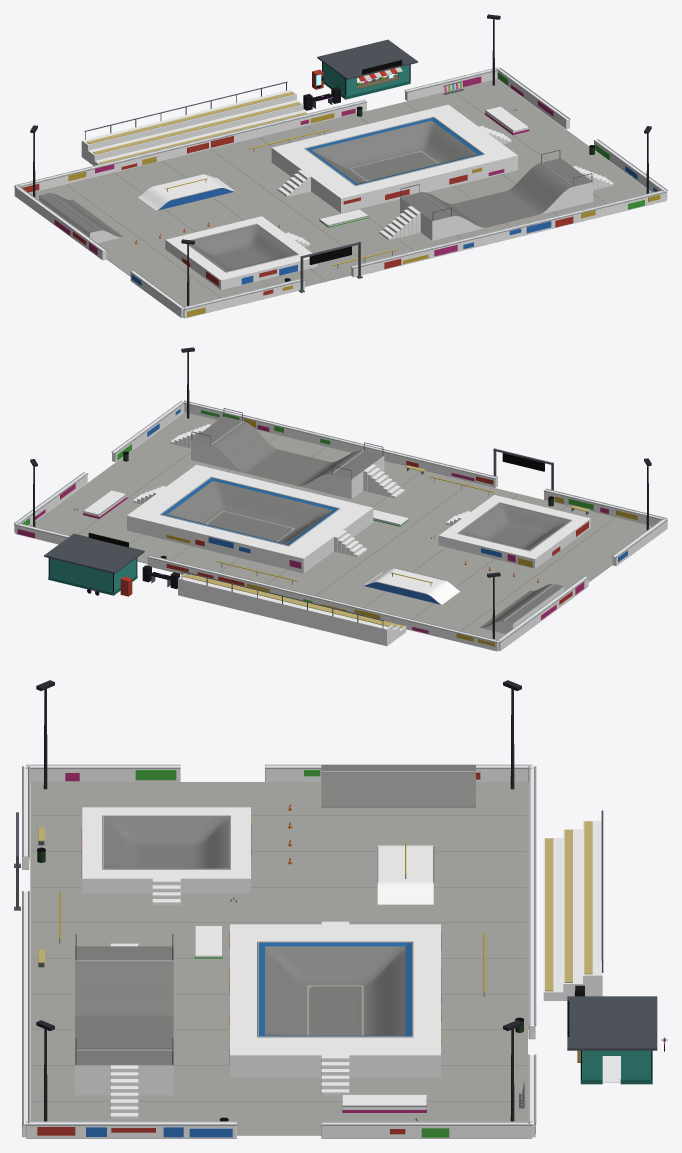
File: tf-skate-p2.glb
The picture shows the model from 3 angles, top to bottom: view 1: azimuth 30°, elevation 25°; view 2: azimuth 150°, elevation 25°; view 3: azimuth 270°, elevation 25°; orthographic projection. The views are drawn at different scales.
Parts seen in each view (by area): view 1: tf-skate-p2; view 2: tf-skate-p2; view 3: tf-skate-p2.
Boxes of the visible parts, box(x1,y1,x2,y2) form: tf-skate-p2: box(14, 14, 667, 318); tf-skate-p2: box(14, 347, 667, 651); tf-skate-p2: box(14, 680, 667, 1138).
Size of the model in its own units: 60.58 by 8.25 by 46.5.
